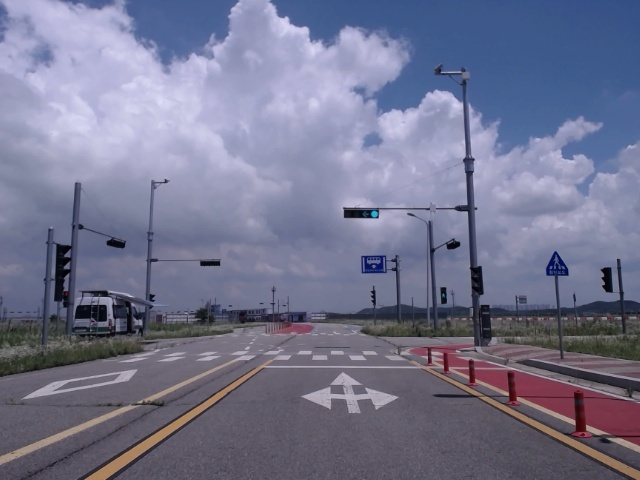all_green_4: (341, 206, 377, 217)
